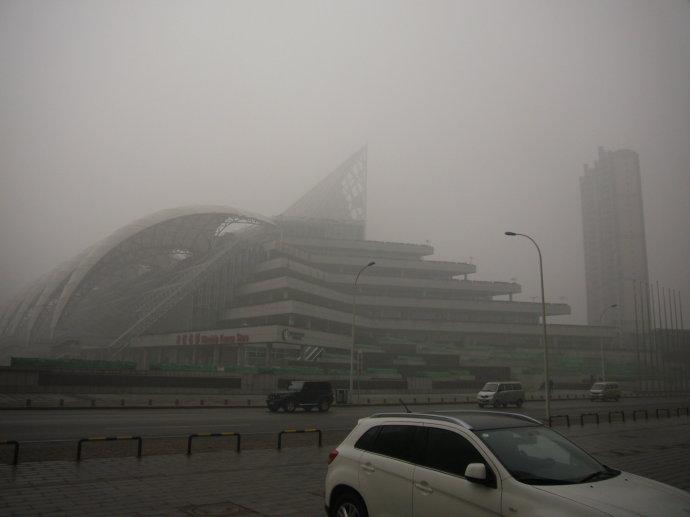car: (323, 411, 689, 515), (265, 380, 334, 413), (475, 381, 526, 410), (589, 382, 622, 401)
